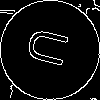U: (25, 25, 79, 72)
